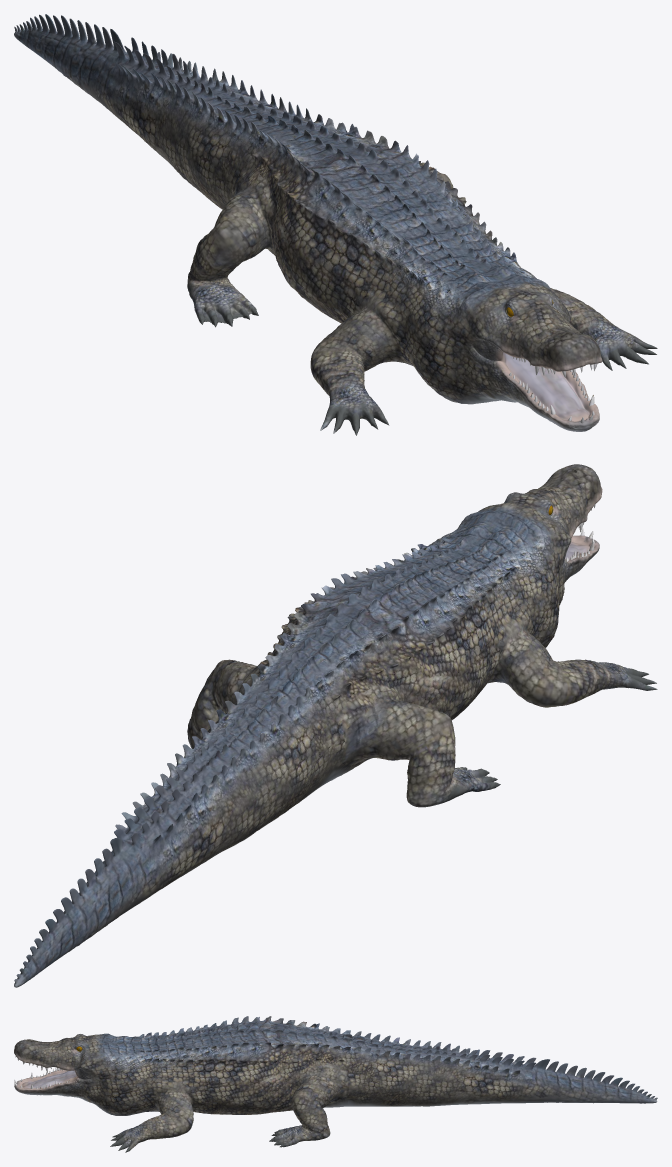
File: Crocodile.glb
3 views of the same model, one above another, from view 1: azimuth 30°, elevation 25°; view 2: azimuth 150°, elevation 25°; view 3: azimuth 270°, elevation 25° (orthographic). The views are drawn at different scales.
Visible parts, largest first — view 1: Body; view 2: Body; view 3: Body.
Boxes of the visible parts, x1,y1,x2,y2 form: Body: (14, 14, 657, 435); Body: (14, 464, 657, 987); Body: (14, 1016, 657, 1152).
Size of the model in its own units: 0.8422 by 0.3475 by 2.48.
2 materials, 2 textured.
